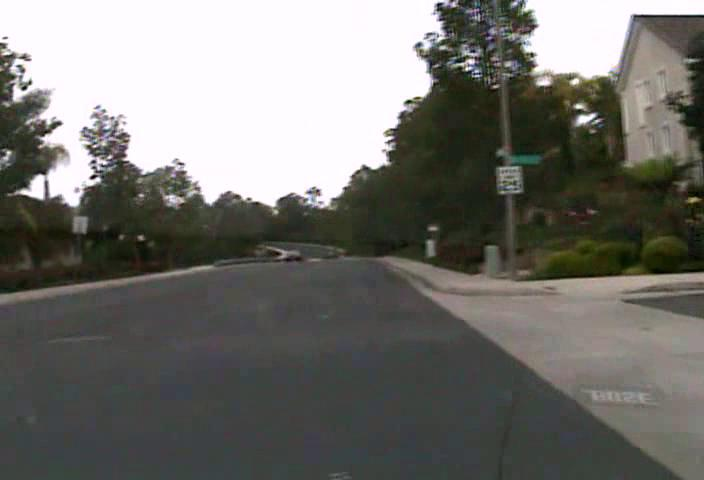speedLimit25: (495, 163, 523, 194)
